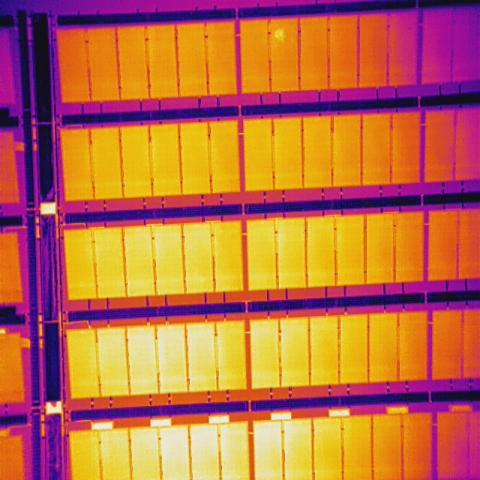fault: (273, 26, 286, 41)
